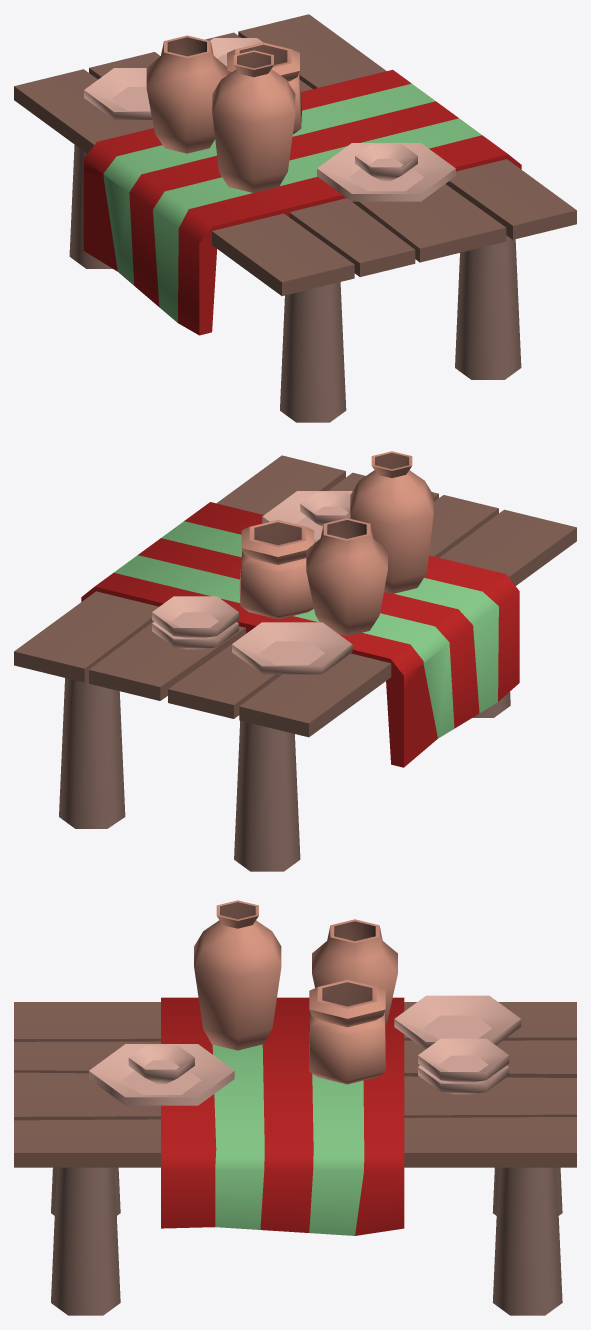
File: table_001.glb
The picture shows the model from 3 angles, top to bottom: view 1: azimuth 30°, elevation 25°; view 2: azimuth 150°, elevation 25°; view 3: azimuth 270°, elevation 25°; orthographic projection. The views are drawn at different scales.
Visible parts, largest first — view 1: table_001; view 2: table_001; view 3: table_001.
Part boxes in pixels (<box>): table_001: <box>14,14,576,422</box>; table_001: <box>14,451,576,871</box>; table_001: <box>14,900,576,1315</box>.
Bounding box in the file's own units: 1.51 × 1.32 × 2.17.
1 material, 1 textured.
